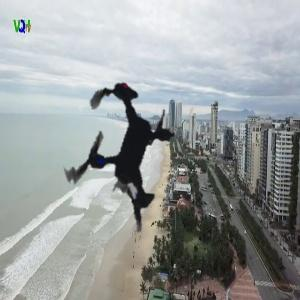drone: (12, 41, 234, 263)
